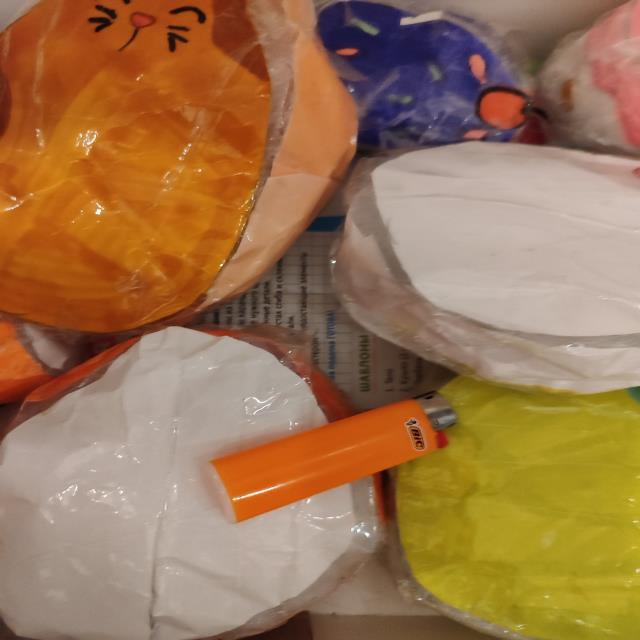lighter: (212, 400, 446, 521)
